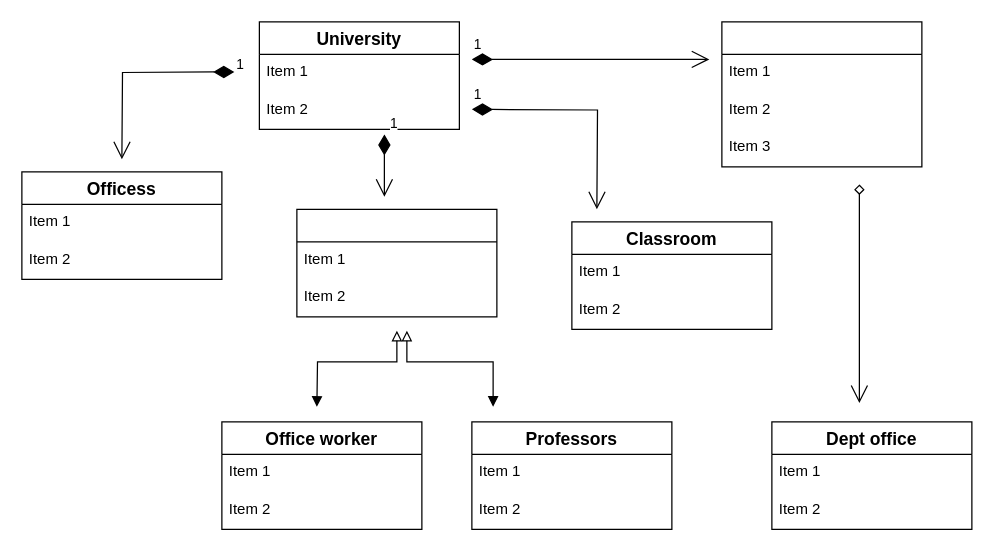
The diagram is 994 pixels wide and 555 high, and some of its shapes have lost their labels. Each missing label, with the box of its shape:
Departments: (721, 21, 922, 167)
Employee: (296, 208, 497, 317)
